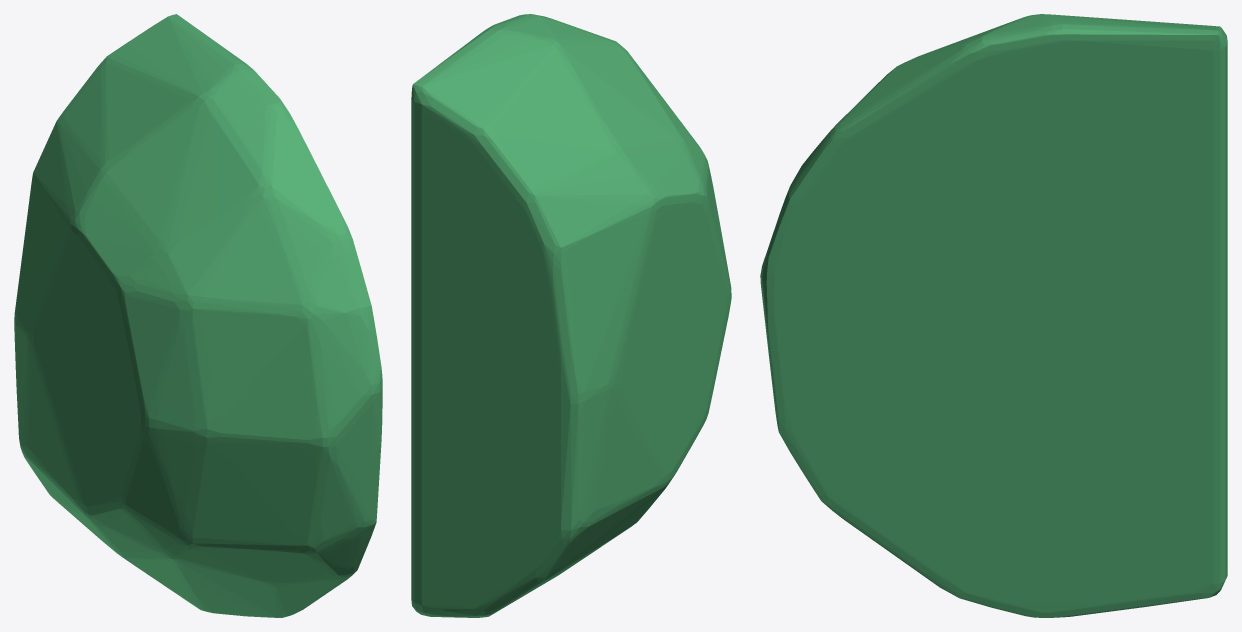
The model's file is right_f_middle_part_3.obj.
3 views of the same model, side by side, from view 1: azimuth 30°, elevation 25°; view 2: azimuth 150°, elevation 25°; view 3: azimuth 270°, elevation 25° (orthographic). The views are drawn at different scales.
Bounding box in the file's own units: 4.76 × 14.23 × 10.22.
